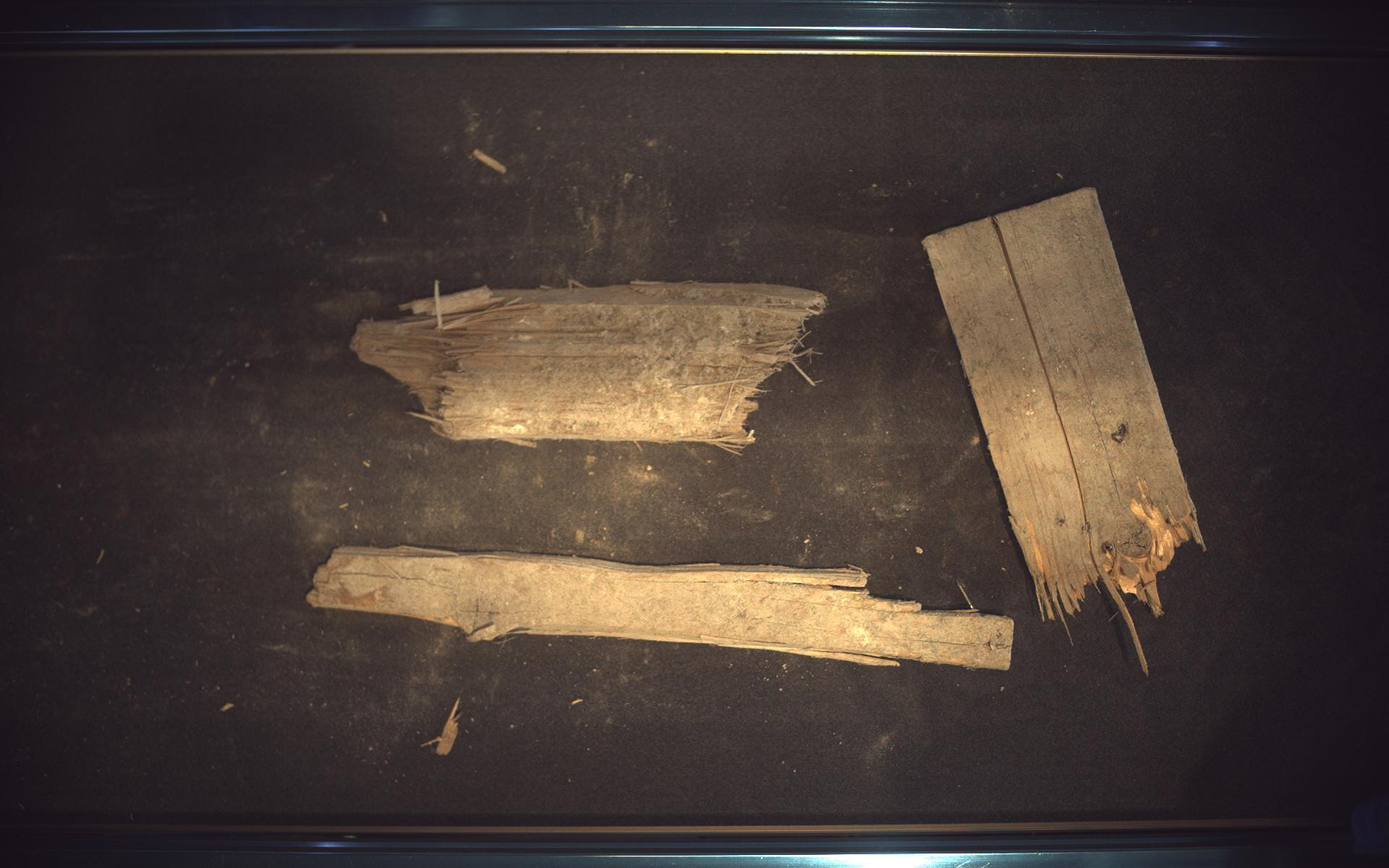wood: (925, 187, 1205, 674), (307, 547, 1016, 671), (352, 281, 828, 452)
